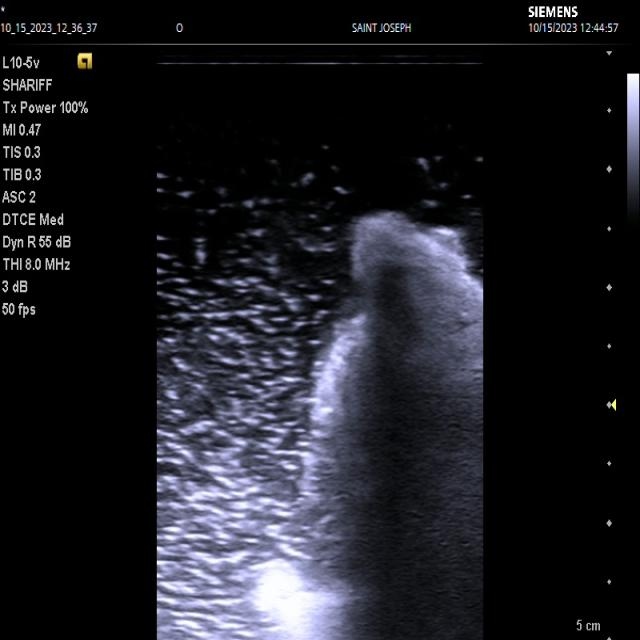tissue: (254, 213, 488, 640)
